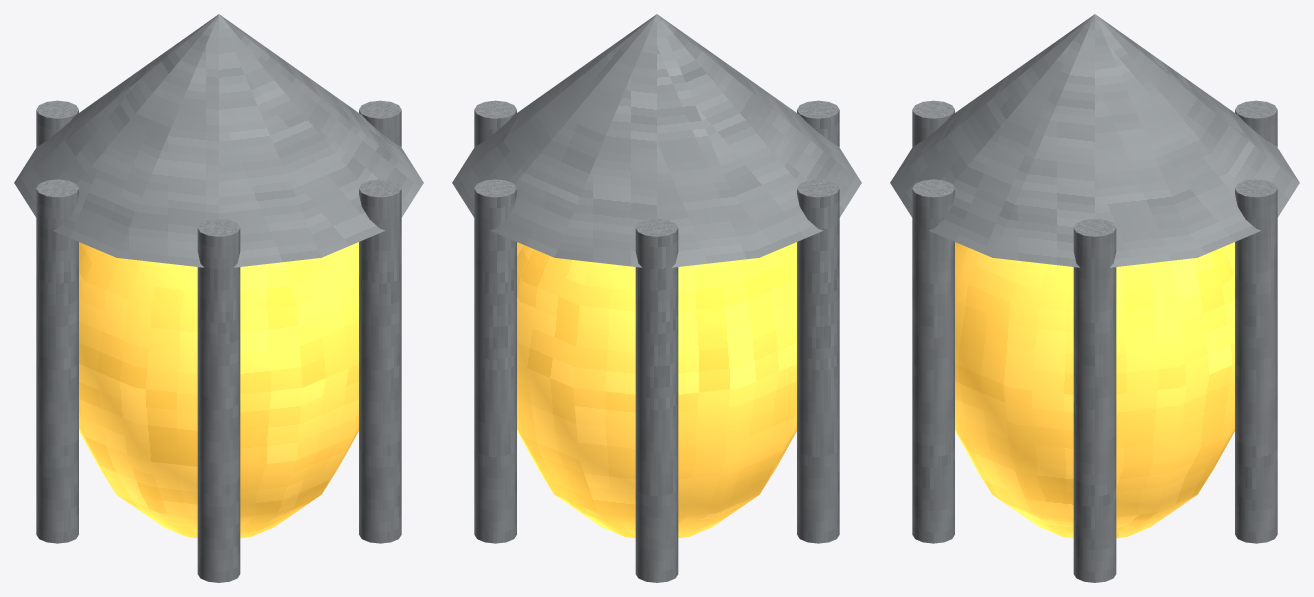
File: story-lantern.glb
The picture shows the model from 3 angles, left to right: view 1: azimuth 30°, elevation 25°; view 2: azimuth 150°, elevation 25°; view 3: azimuth 270°, elevation 25°; orthographic projection.
Visible parts, largest first — view 1: lantern cap, light core, lantern rib (×5); view 2: lantern cap, light core, lantern rib (×5); view 3: lantern cap, light core, lantern rib (×5).
Boxes of the visible parts, x1,y1,x2,y2 form: lantern cap: [14, 14, 423, 267]; light core: [79, 242, 358, 538]; lantern rib (×5): [36, 100, 401, 582]; lantern cap: [452, 14, 861, 267]; light core: [517, 242, 796, 538]; lantern rib (×5): [474, 100, 839, 582]; lantern cap: [890, 14, 1299, 267]; light core: [955, 242, 1234, 538]; lantern rib (×5): [912, 100, 1277, 582].
Size of the model in its own units: 0.446 by 0.61 by 0.44.
Materials: 2 (2 with a texture image).
